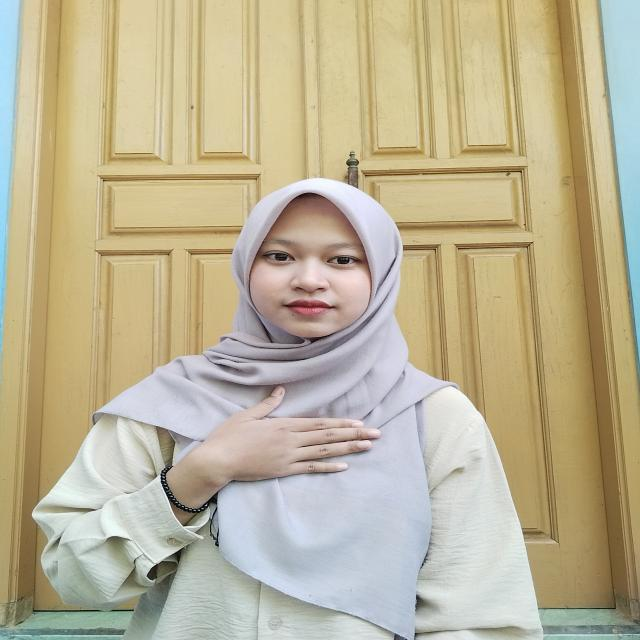tolong: (149, 385, 384, 516)
